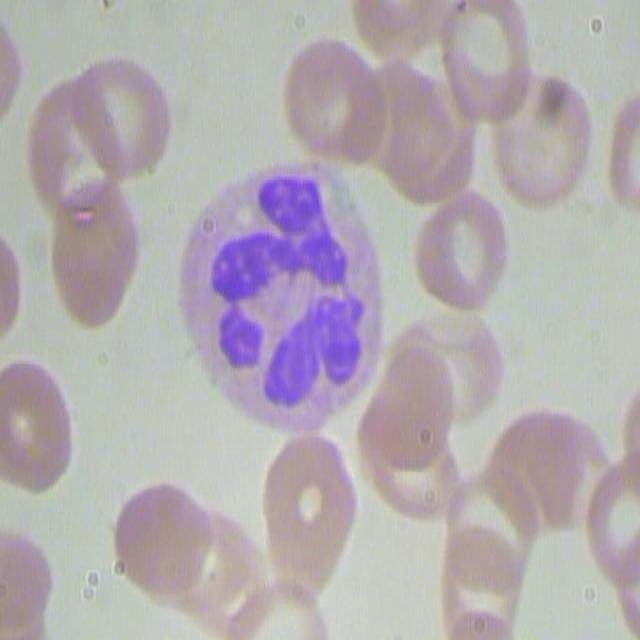RBC: (24, 44, 160, 220), (108, 478, 257, 636), (358, 348, 468, 525), (367, 37, 471, 206), (486, 402, 603, 540), (488, 68, 596, 216), (260, 427, 352, 585), (434, 492, 532, 640), (280, 36, 384, 167), (42, 182, 138, 322), (434, 0, 534, 124), (413, 193, 512, 316), (0, 352, 75, 493), (584, 456, 640, 597), (0, 522, 55, 638), (604, 86, 640, 212)
WBC: (175, 158, 380, 443)
